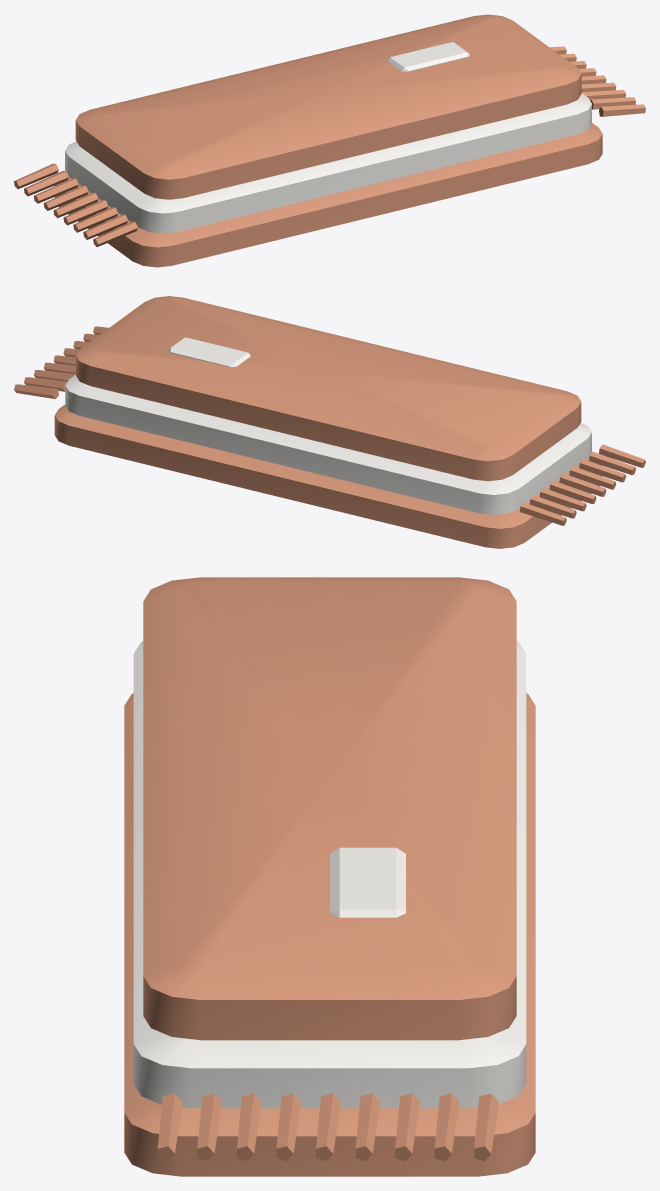
File: clothing-rail-and-wardrobe-scarf-folded-0b2eb18b__35446.glb
3 renders of one model, top to bottom at view 1: azimuth 30°, elevation 25°; view 2: azimuth 150°, elevation 25°; view 3: azimuth 270°, elevation 25°, orthographic. The views are drawn at different scales.
Visible parts, largest first — view 1: scarf-folded; view 2: scarf-folded; view 3: scarf-folded.
Boxes of the visible parts, x1,y1,x2,y2 form: scarf-folded: [14, 14, 645, 267]; scarf-folded: [14, 296, 645, 548]; scarf-folded: [124, 577, 535, 1176].
Size of the model in its own units: 0.4008 by 0.066 by 0.13.
